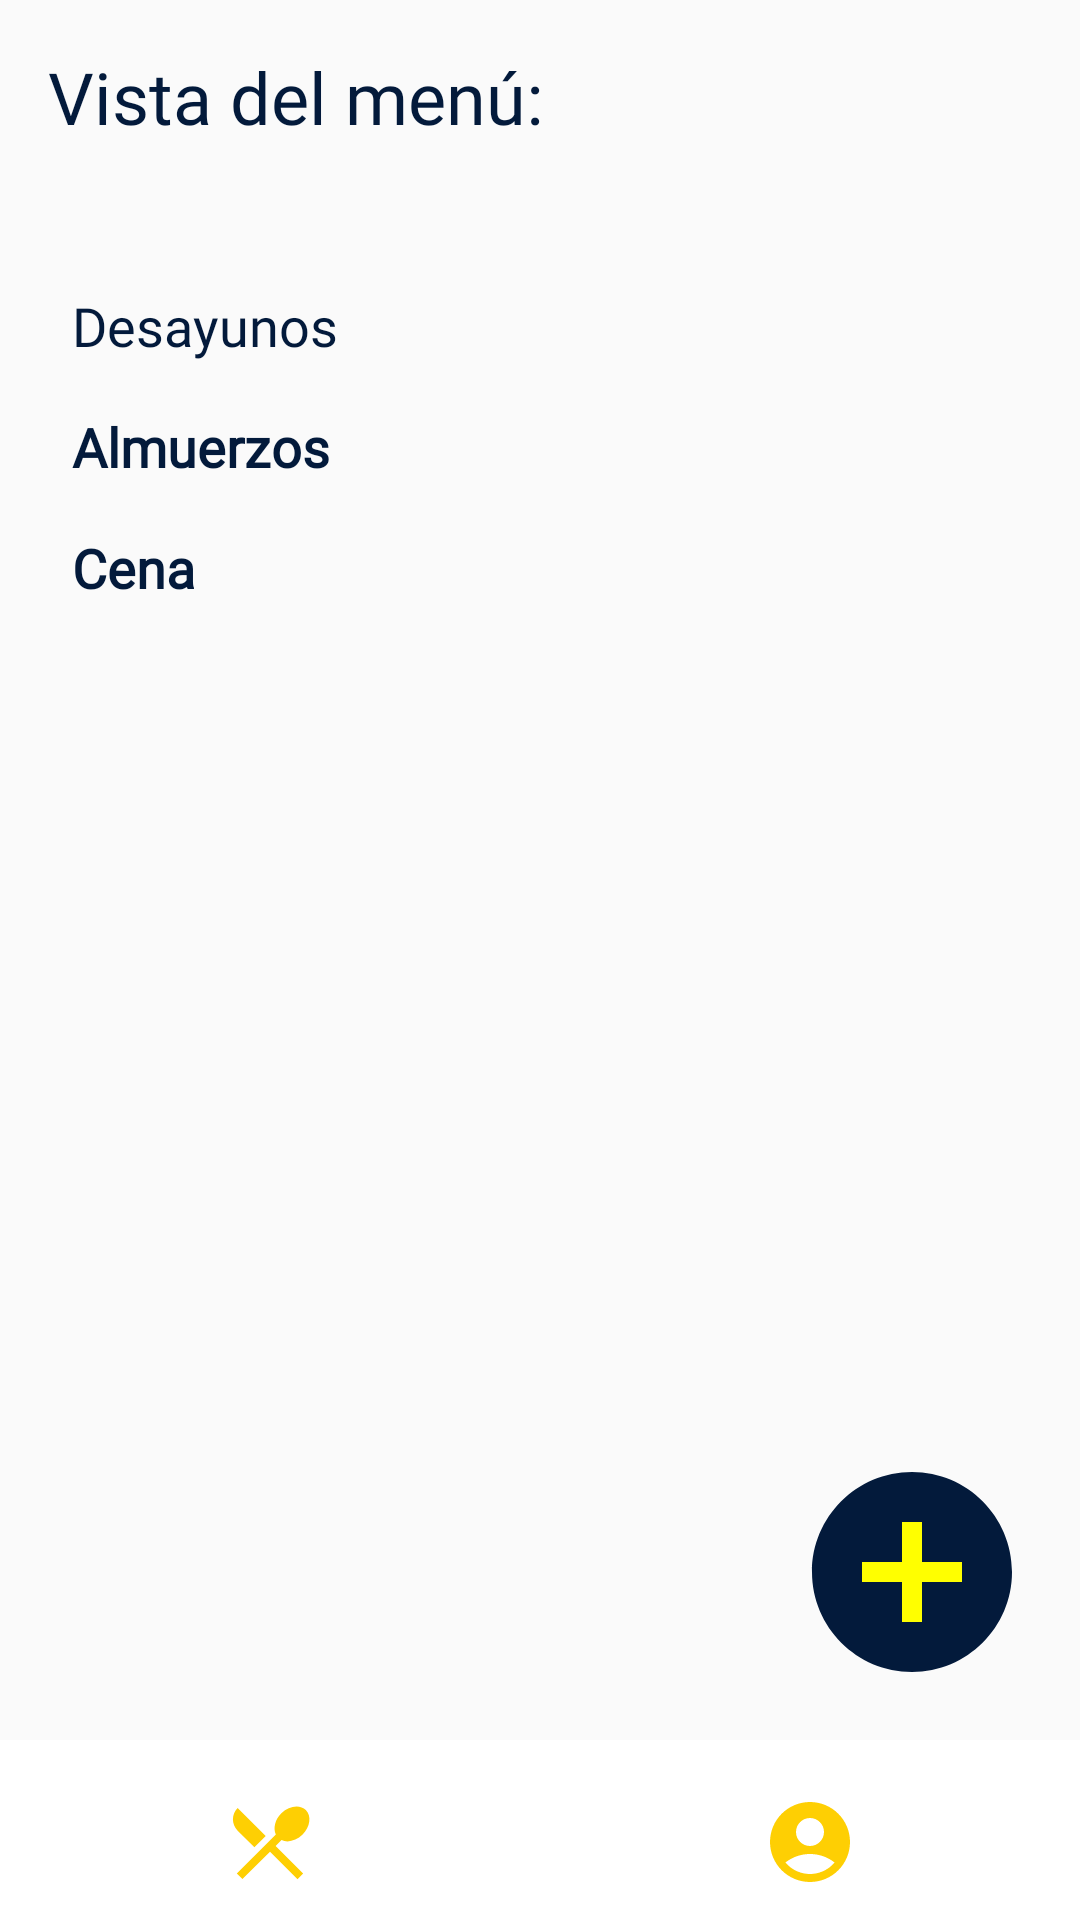

Locate icon controls on the screen. Image size 1080px×1920px, boxes as (x1, y1, x2, y2).
agregar: (811, 1472, 1012, 1672)
cuenta: (770, 1802, 850, 1882)
